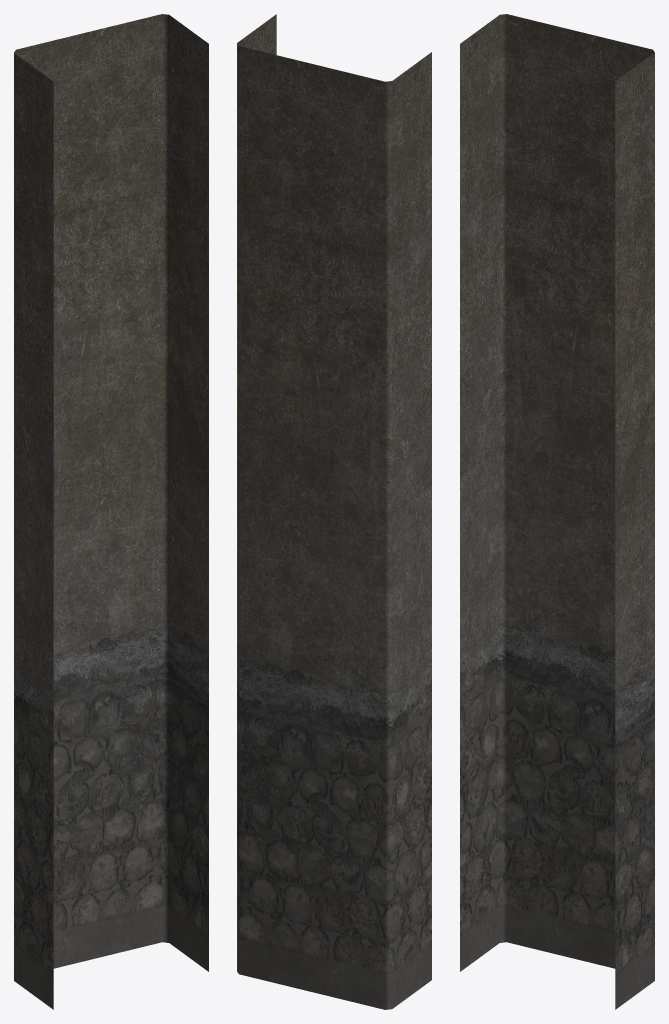
Rendered from Basement_Corridor_F_Pillar_A.glb.
3 renders of one model, left to right at view 1: azimuth 30°, elevation 25°; view 2: azimuth 150°, elevation 25°; view 3: azimuth 330°, elevation 25°, orthographic.
Visible parts, largest first — view 1: Basement_Corridor_F_Pillar_A; view 2: Basement_Corridor_F_Pillar_A; view 3: Basement_Corridor_F_Pillar_A.
Part boxes in pixels (x1=…): Basement_Corridor_F_Pillar_A: x1=14, y1=14, x2=208, y2=1009; Basement_Corridor_F_Pillar_A: x1=237, y1=14, x2=431, y2=1009; Basement_Corridor_F_Pillar_A: x1=460, y1=14, x2=654, y2=1009.
Bounding box in the file's own units: 0.7 × 4 × 0.3299.
Materials: 1 (1 with a texture image).
